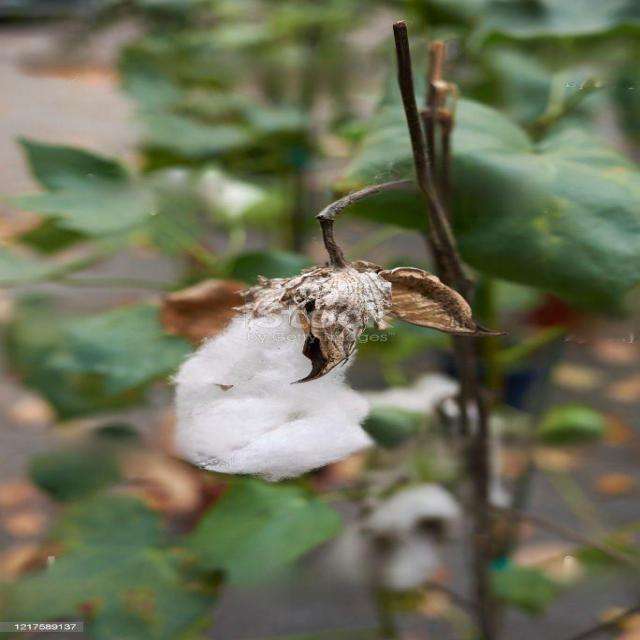Leaf: (165, 255, 513, 490)
